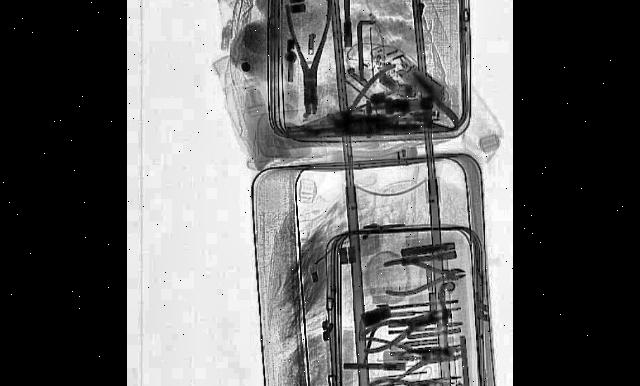Pliers: (365, 323, 460, 386), (284, 0, 333, 115), (358, 306, 436, 356), (384, 254, 464, 298), (368, 369, 455, 386)
